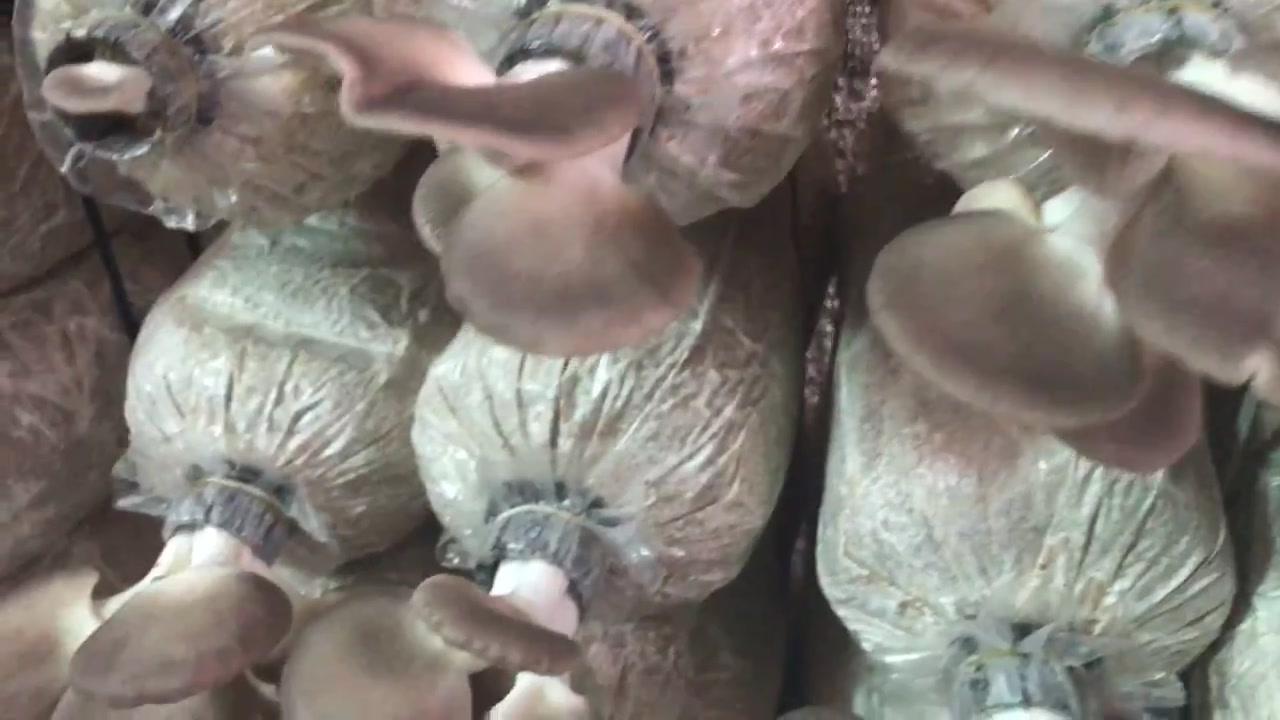nam: (860, 27, 1280, 484), (242, 20, 710, 364), (281, 495, 603, 720), (67, 468, 295, 714)
